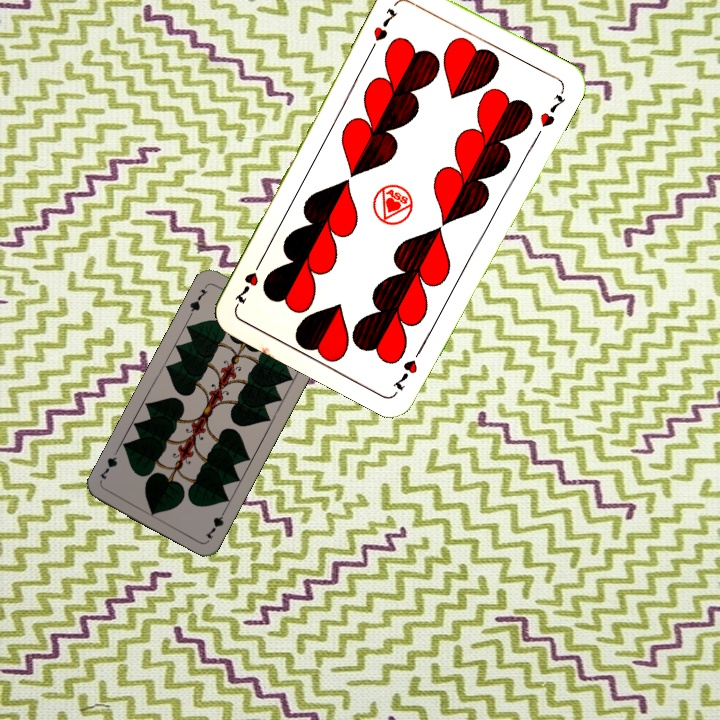G7: (201, 504, 229, 542), (185, 280, 211, 318)
H7: (390, 341, 427, 394), (369, 4, 401, 44)
